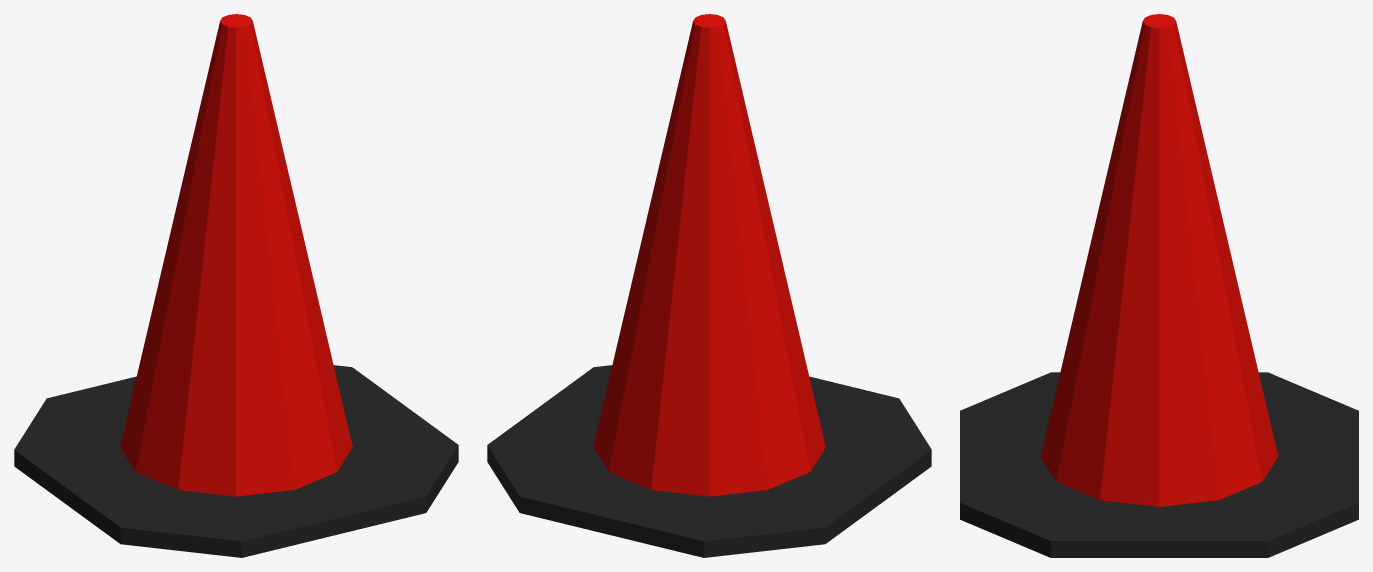
The picture shows the model from 3 angles, left to right: view 1: azimuth 30°, elevation 25°; view 2: azimuth 150°, elevation 25°; view 3: azimuth 270°, elevation 25°; orthographic projection. The views are drawn at different scales.
Parts seen in each view (by area): view 1: Cone.001; view 2: Cone.001; view 3: Cone.001.
Part boxes in pixels (x1,y1,x2,y2): Cone.001: [14, 14, 458, 557]; Cone.001: [487, 14, 931, 557]; Cone.001: [960, 14, 1358, 557].
Bounding box in the file's own units: 142 × 179 × 142.
